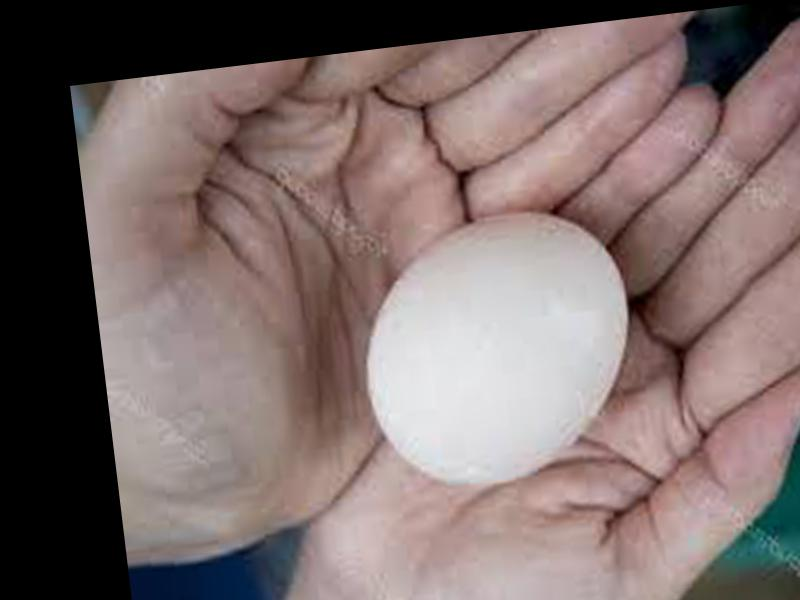Eggs: (352, 208, 645, 490)
